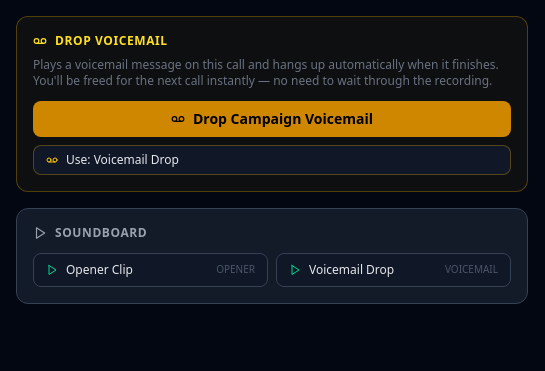
Test: Soundboard component › shows an error message when playRecording fails
Click the text "Opener Clip" at (99, 270), box left=66, top=262, right=133, bottom=278
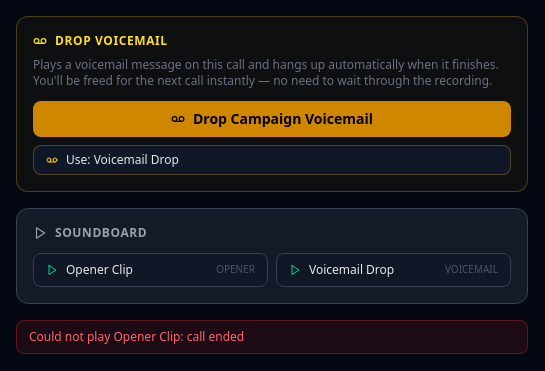
Now the text "Could not play Opener Clip: call ended" is shown, box left=16, top=320, right=528, bottom=354
